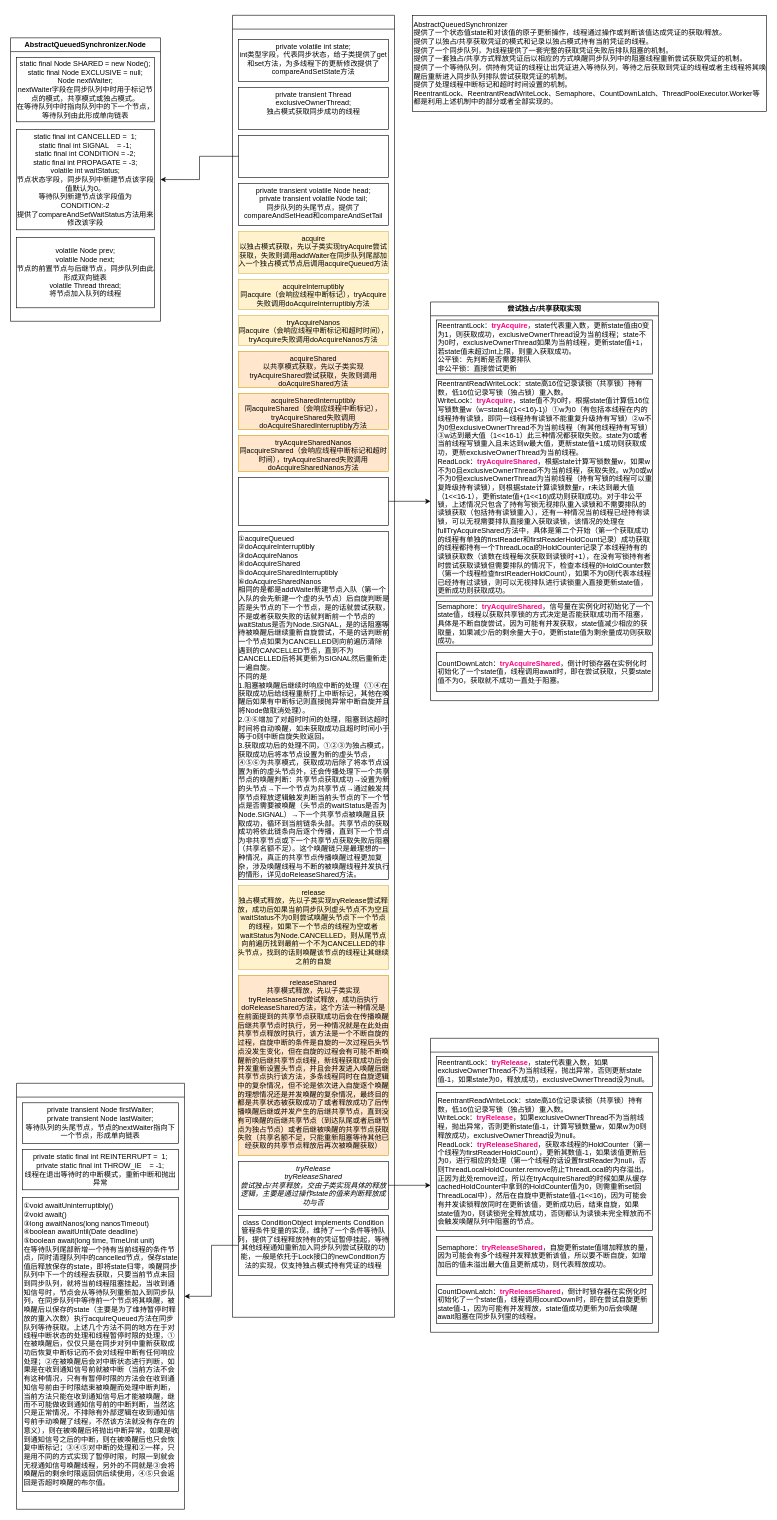
The diagram is 777 pixels wide and 1520 high, and some of its shapes have lost their labels. The box of each missing label's shape, as (x1, y1, x2, y2) in pixels:
AbstractQueuedSynchronizer: (232, 15, 394, 1317)
AbstractQueuedSynchronizer.ConditionObject: (16, 1083, 184, 1509)
static final class Node 内部类Node，同步队列与条件等待队列的节点: (238, 135, 388, 177)
tryAcquire tryAcquireShared 尝试独占/共享获取，交由子类实现具体的获取逻辑，主要是通过操作state的值来判断获取成功与否: (238, 477, 388, 525)
尝试独占/共享释放实现: (430, 1038, 658, 1332)
